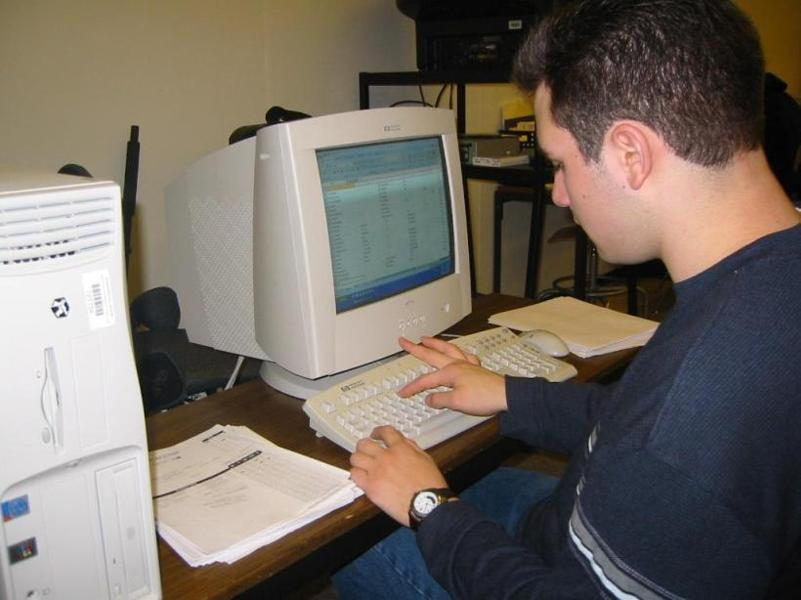person: (350, 5, 798, 600)
